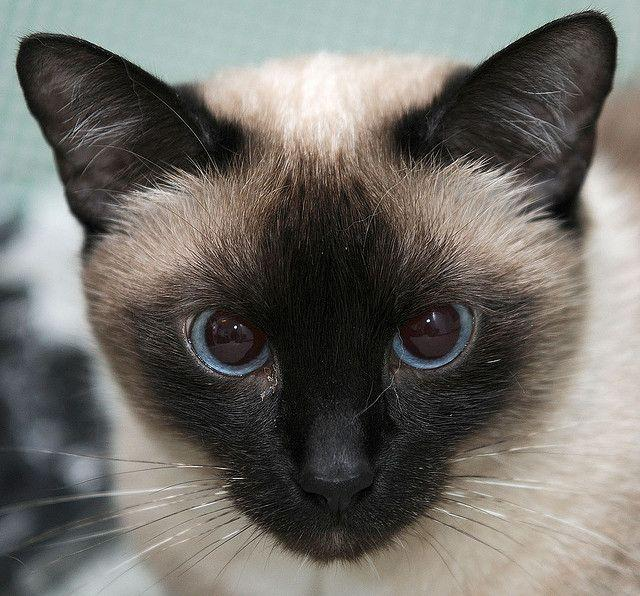siamese: (16, 11, 632, 584)
